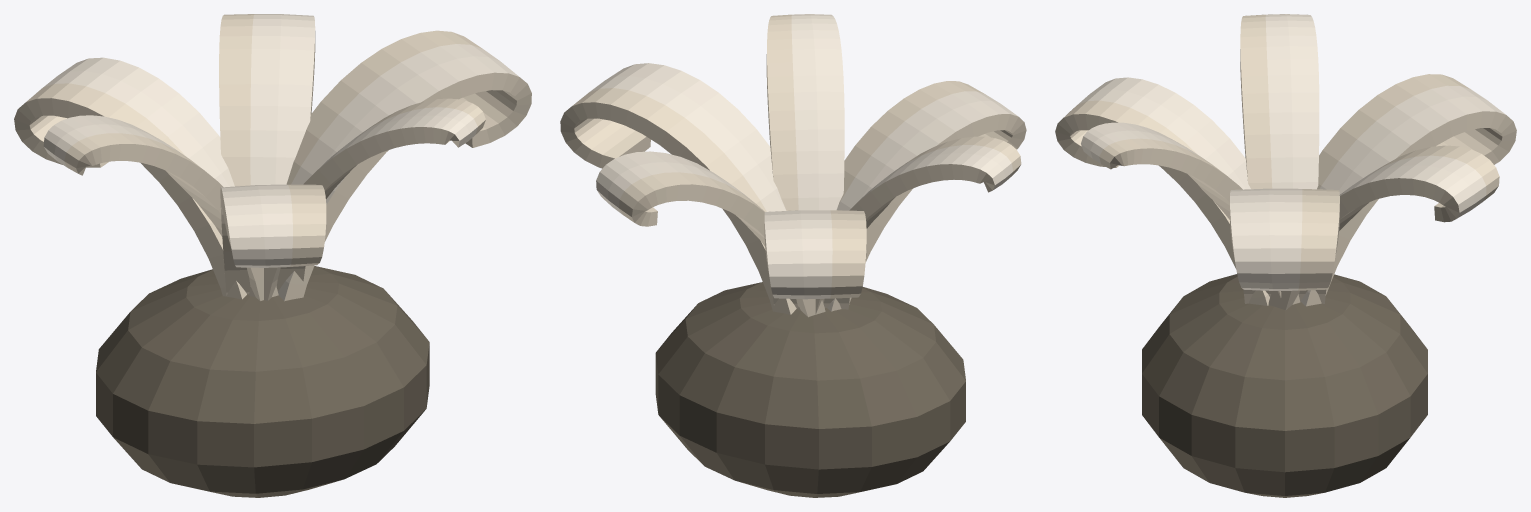
The model's file is gypsum-cave-flower.glb.
The picture shows the model from 3 angles, left to right: view 1: azimuth 30°, elevation 25°; view 2: azimuth 150°, elevation 25°; view 3: azimuth 270°, elevation 25°; orthographic projection. The views are drawn at different scales.
Parts seen in each view (by area): view 1: small-common-rock-attachment, curled-crystal-ribbon-00, curled-crystal-ribbon-01, curled-crystal-ribbon-02, curled-crystal-ribbon-04, curled-crystal-ribbon-03, curled-crystal-ribbon-05; view 2: small-common-rock-attachment, curled-crystal-ribbon-00, curled-crystal-ribbon-05, curled-crystal-ribbon-04, curled-crystal-ribbon-02, curled-crystal-ribbon-01, curled-crystal-ribbon-03; view 3: small-common-rock-attachment, curled-crystal-ribbon-02, curled-crystal-ribbon-03, curled-crystal-ribbon-00, curled-crystal-ribbon-04, curled-crystal-ribbon-01, curled-crystal-ribbon-05.
Boxes of the visible parts, x1,y1,x2,y2 form: small-common-rock-attachment: [96, 266, 429, 497]; curled-crystal-ribbon-00: [278, 30, 531, 301]; curled-crystal-ribbon-01: [219, 14, 315, 186]; curled-crystal-ribbon-02: [14, 57, 246, 299]; curled-crystal-ribbon-04: [220, 184, 326, 295]; curled-crystal-ribbon-03: [43, 115, 278, 300]; curled-crystal-ribbon-05: [248, 98, 485, 300]; small-common-rock-attachment: [655, 282, 965, 497]; curled-crystal-ribbon-00: [560, 63, 796, 314]; curled-crystal-ribbon-05: [766, 14, 844, 210]; curled-crystal-ribbon-04: [827, 81, 1026, 311]; curled-crystal-ribbon-02: [764, 210, 866, 309]; curled-crystal-ribbon-01: [596, 151, 825, 317]; curled-crystal-ribbon-03: [798, 136, 1021, 314]; small-common-rock-attachment: [1142, 274, 1427, 497]; curled-crystal-ribbon-02: [1300, 74, 1516, 306]; curled-crystal-ribbon-03: [1240, 14, 1319, 189]; curled-crystal-ribbon-00: [1230, 188, 1339, 303]; curled-crystal-ribbon-04: [1055, 77, 1269, 305]; curled-crystal-ribbon-01: [1268, 145, 1499, 310]; curled-crystal-ribbon-05: [1081, 122, 1300, 304].
Size of the model in its own units: 0.0768 by 0.0657 by 0.0714.
